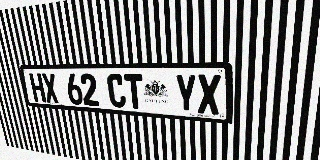2: (79, 74, 99, 106)
6: (65, 73, 84, 105)
C: (106, 74, 127, 108)
H: (29, 73, 46, 102)
T: (124, 74, 145, 109)
X: (197, 74, 221, 115), (41, 73, 59, 103)
Y: (174, 74, 197, 113)
